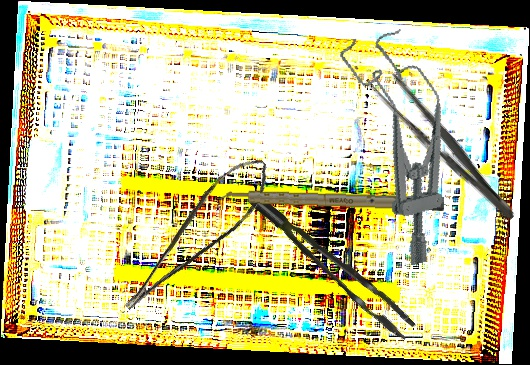Dressing Forceps: (361, 60, 526, 230)
Micro Scissor: (99, 147, 287, 317)
Scalpel Handle: (219, 189, 445, 211)
Speculum: (336, 22, 478, 270)
Tissue Forceps: (247, 172, 419, 356)
